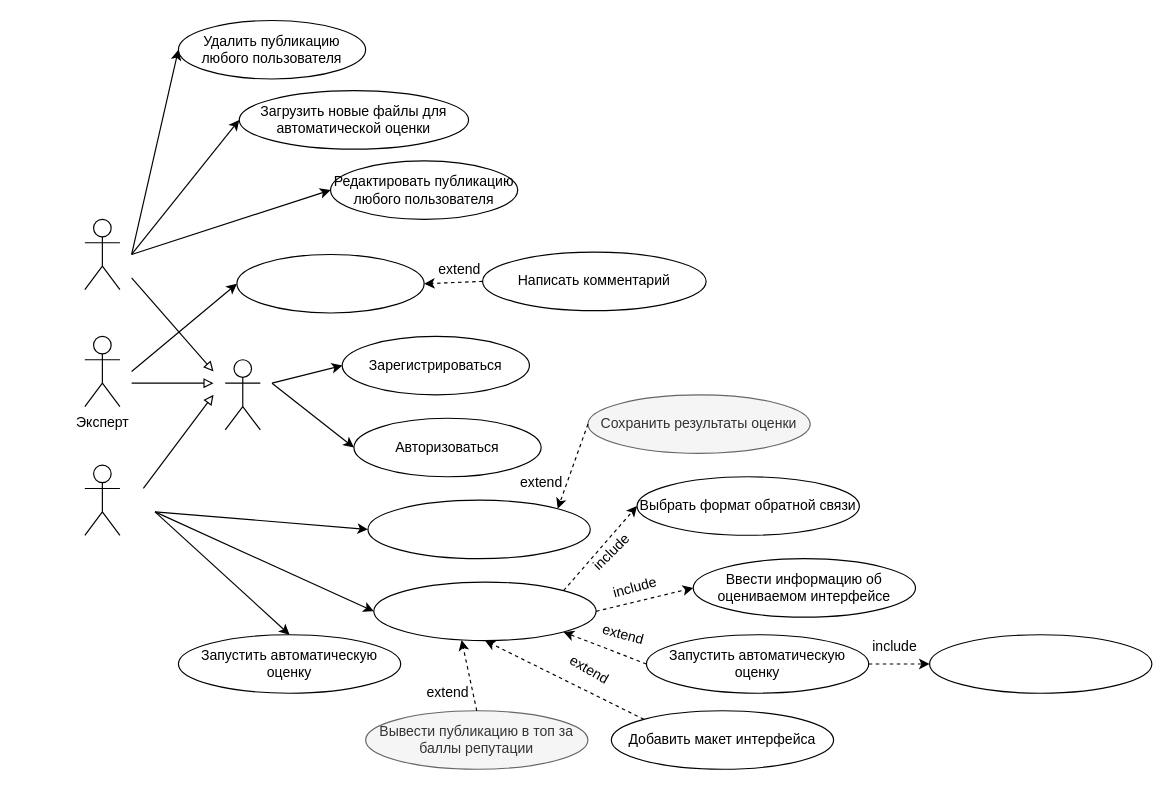
Image size: 1172x790. Some labels were removed from this diagram. Each missing label, with the box of its shape:
Администратор: (84, 218, 120, 290)
Загрузить xaml-файлы интерфейса: (928, 634, 1152, 693)
Оценить интерфейс: (236, 253, 424, 313)
Пользователь: (224, 359, 260, 430)
Просмотреть результаты оценки: (367, 499, 590, 559)
Разместить публикацию: (373, 581, 596, 641)
Разработчик интерфейса: (84, 464, 120, 535)
